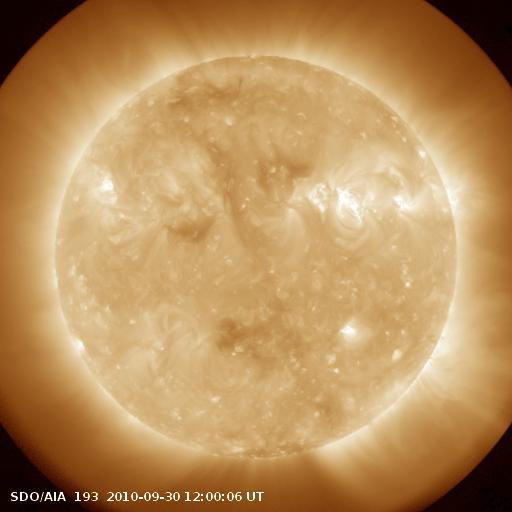coronal_hole: (206, 313, 275, 358)
